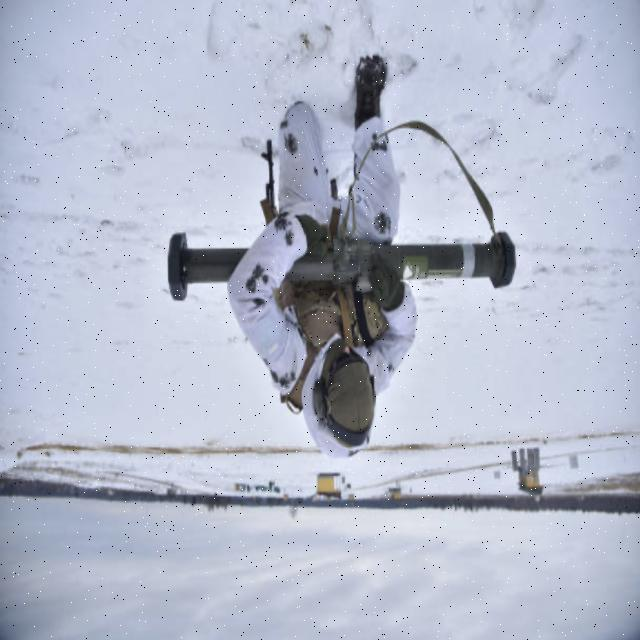bazooka: (165, 221, 525, 308)
